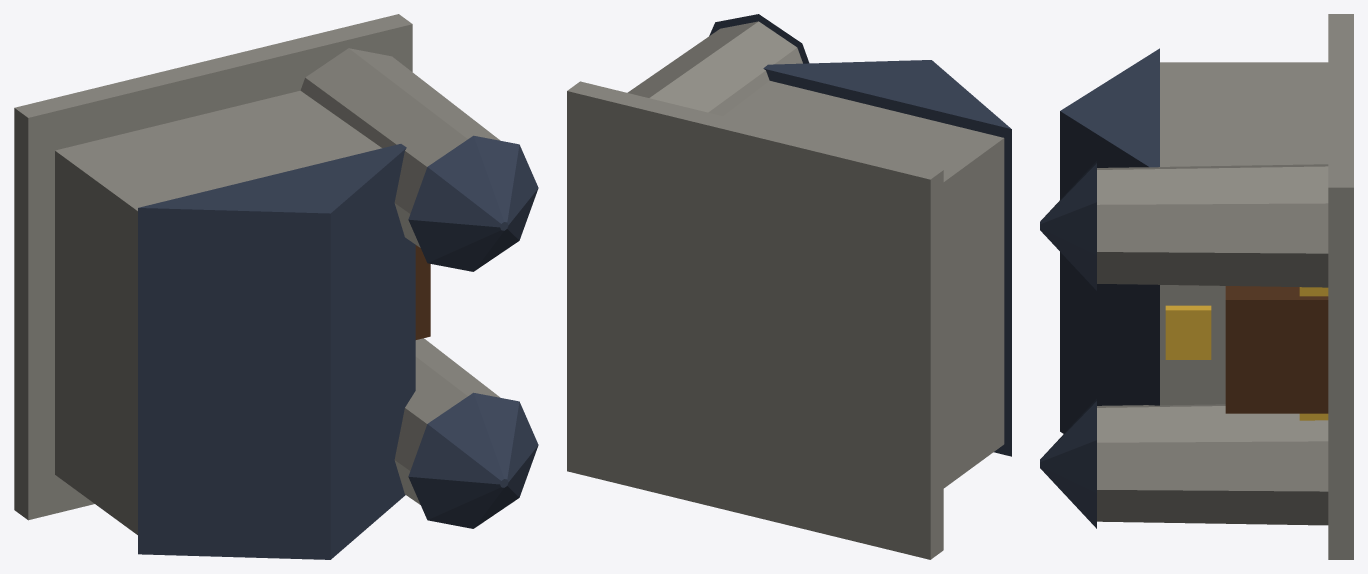
The model's file is SM_Barracks.obj.
The picture shows the model from 3 angles, left to right: view 1: azimuth 30°, elevation 25°; view 2: azimuth 150°, elevation 25°; view 3: azimuth 270°, elevation 25°; orthographic projection. The views are drawn at different scales.
Parts seen in each view (by area): view 1: SM_Barracks_slate, SM_Barracks_stone, SM_Barracks_timber; view 2: SM_Barracks_stone, SM_Barracks_slate; view 3: SM_Barracks_stone, SM_Barracks_slate, SM_Barracks_timber, SM_Barracks_gold.
Boxes of the visible parts, x1,y1,x2,y2 form: SM_Barracks_slate: (138, 135, 538, 559); SM_Barracks_stone: (14, 14, 500, 534); SM_Barracks_timber: (415, 245, 430, 339); SM_Barracks_stone: (567, 21, 1004, 559); SM_Barracks_slate: (709, 14, 1011, 456); SM_Barracks_stone: (1097, 14, 1353, 559); SM_Barracks_slate: (1040, 48, 1159, 528); SM_Barracks_timber: (1225, 286, 1328, 413); SM_Barracks_gold: (1165, 287, 1328, 420).
Size of the model in its own units: 722 by 720 by 550.
